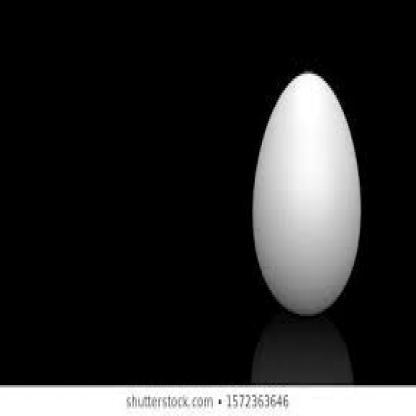egg: (251, 69, 363, 317)
